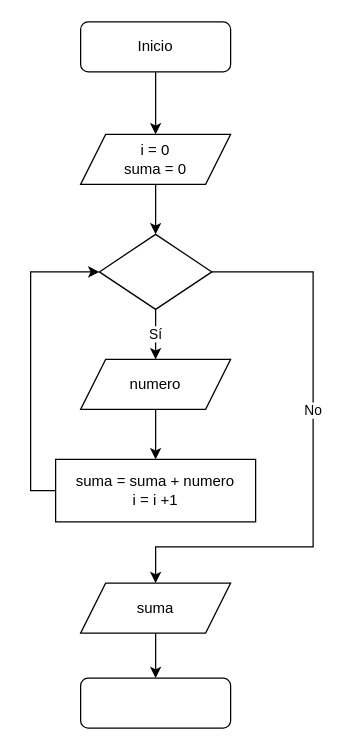
Some shapes in this 345 by 750 pixel diagram are drawn without their labels. The shapes that lost their labels are listed below. From the top down, each one's centre as x and y in pixels, then its label:
the point at 155,271: i < 10
the point at 155,702: Fin
